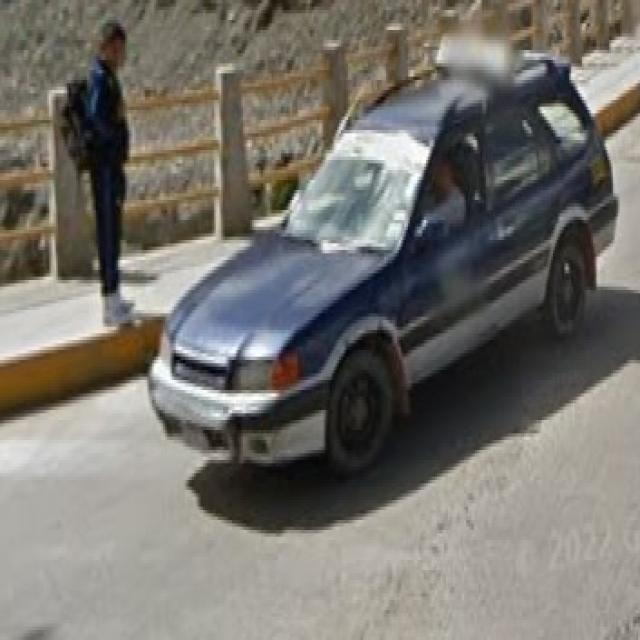Car: (158, 71, 618, 502)
